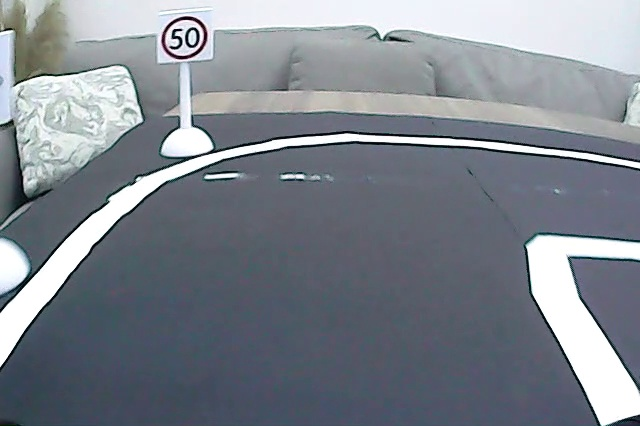speed limit 50: (159, 14, 210, 61)
